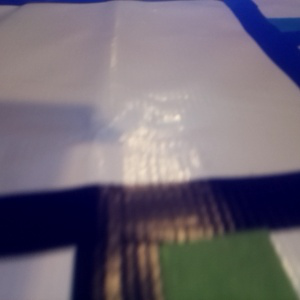bottom_right: (75, 187, 300, 300)
top_right: (261, 17, 300, 49)
